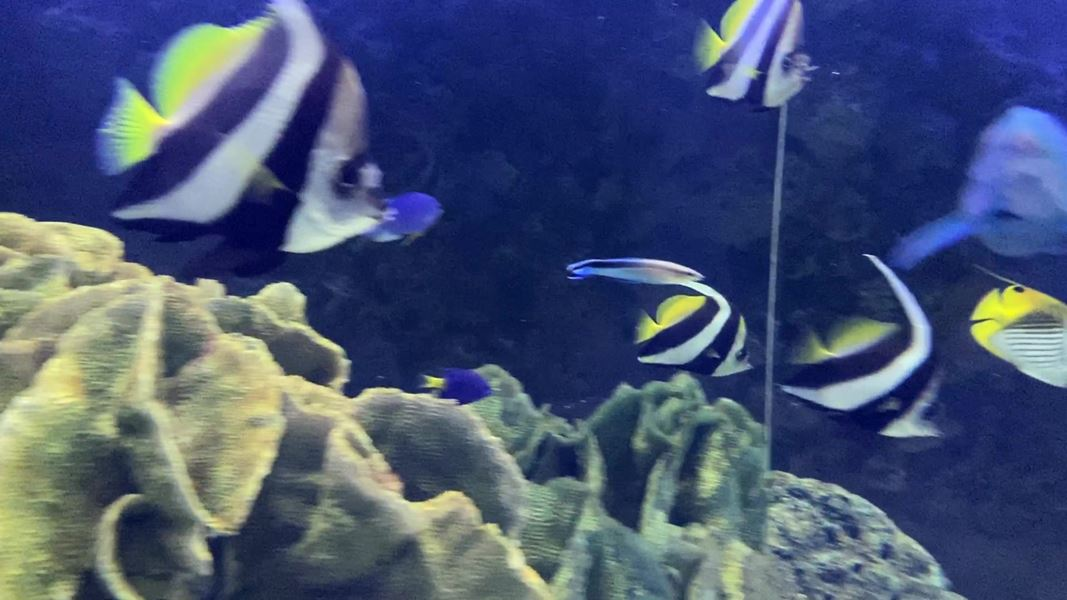Bluesteak cleaner wrasse: (564, 249, 710, 307)
